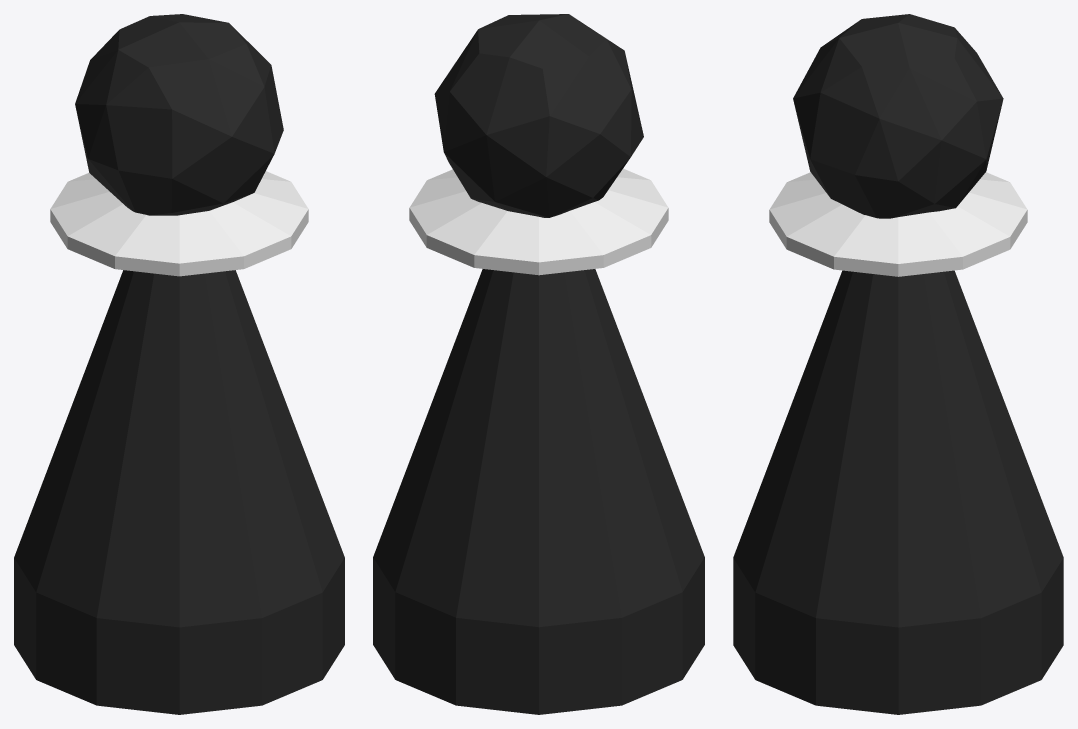
The model's file is chessBishop.glb.
The picture shows the model from 3 angles, left to right: view 1: azimuth 30°, elevation 25°; view 2: azimuth 150°, elevation 25°; view 3: azimuth 270°, elevation 25°; orthographic projection.
Visible parts, largest first — view 1: SM_Chess_Bishop; view 2: SM_Chess_Bishop; view 3: SM_Chess_Bishop.
Boxes of the visible parts, bbox=[...] form: SM_Chess_Bishop: bbox=[14, 14, 344, 714]; SM_Chess_Bishop: bbox=[373, 14, 704, 714]; SM_Chess_Bishop: bbox=[733, 14, 1063, 714].
Size of the model in its own units: 0.0416 by 0.0864 by 0.0416.
Materials: 1 (1 with a texture image).
